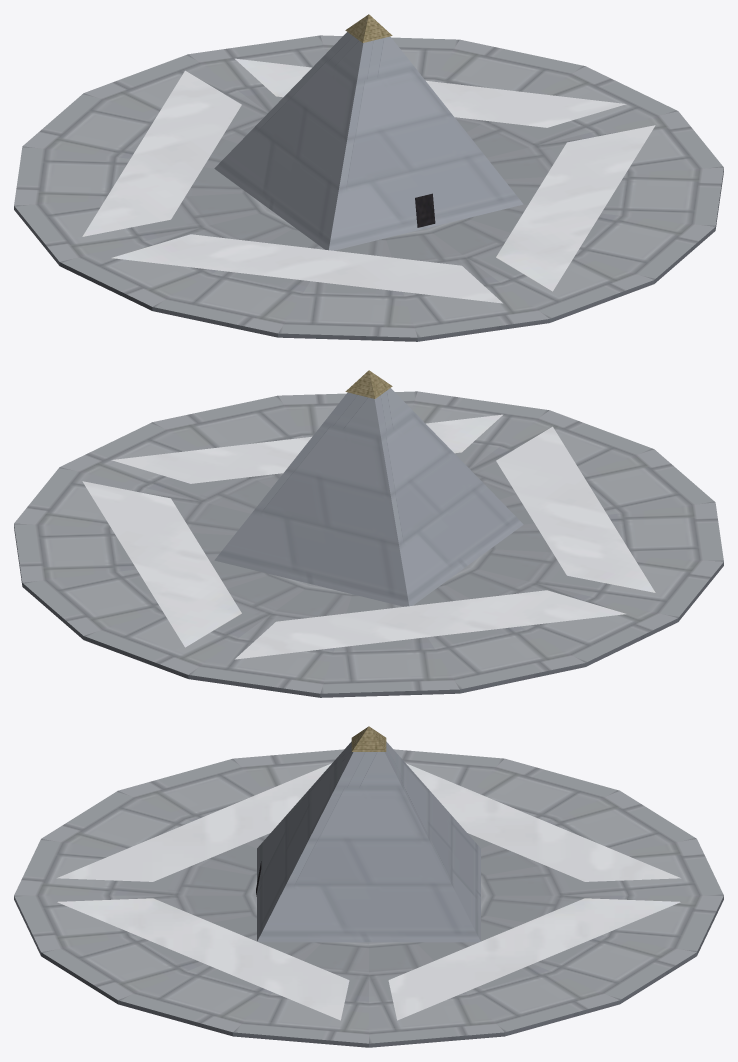
The model's file is pyramid_small_lod2.glb.
3 renders of one model, top to bottom at view 1: azimuth 30°, elevation 25°; view 2: azimuth 150°, elevation 25°; view 3: azimuth 270°, elevation 25°, orthographic.
Visible parts, largest first — view 1: pyramid_small_lod2; view 2: pyramid_small_lod2; view 3: pyramid_small_lod2.
Boxes of the visible parts, box(x1,y1,x2,y2) form: pyramid_small_lod2: box(14, 14, 723, 341); pyramid_small_lod2: box(14, 370, 723, 697); pyramid_small_lod2: box(14, 726, 723, 1047).
Size of the model in its own units: 1.88 by 0.512 by 1.9.
1 material, 1 textured.
